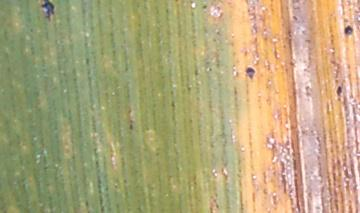tarspot: (39, 1, 55, 22), (244, 64, 255, 82), (334, 85, 344, 101), (343, 24, 354, 37), (127, 119, 136, 132), (304, 84, 312, 98), (290, 14, 300, 22), (201, 3, 208, 10)
